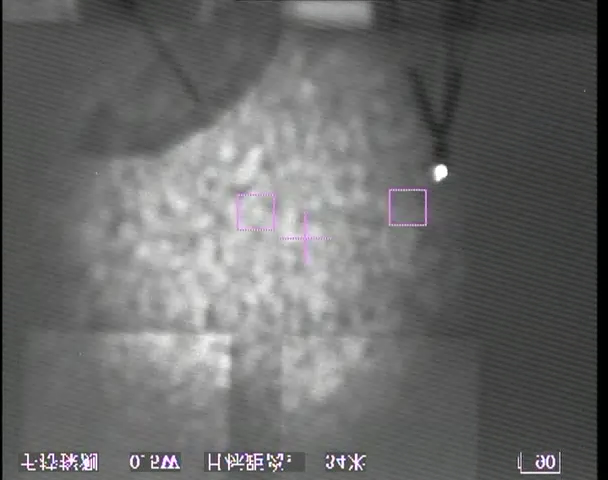my: (432, 162, 449, 182)
